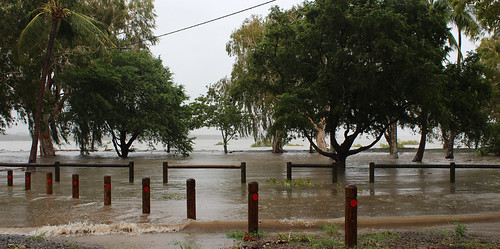tree: (267, 1, 445, 169), (1, 7, 136, 164), (74, 50, 198, 164), (189, 75, 264, 157)
